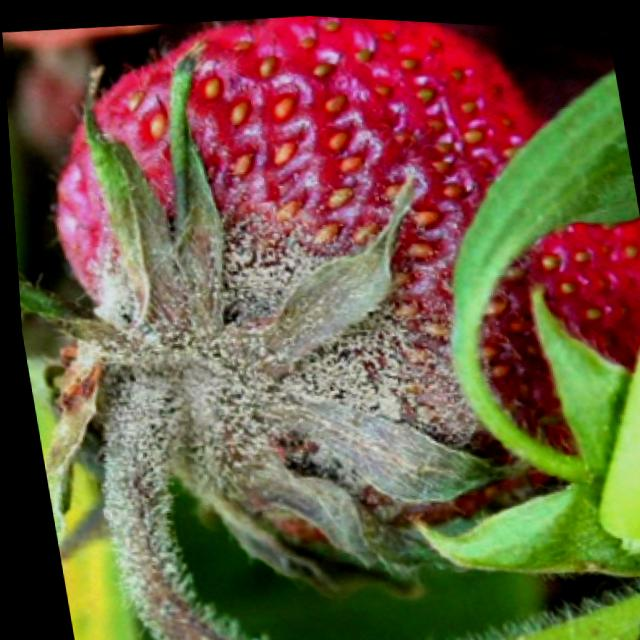Gray Mold: (39, 32, 571, 640)
